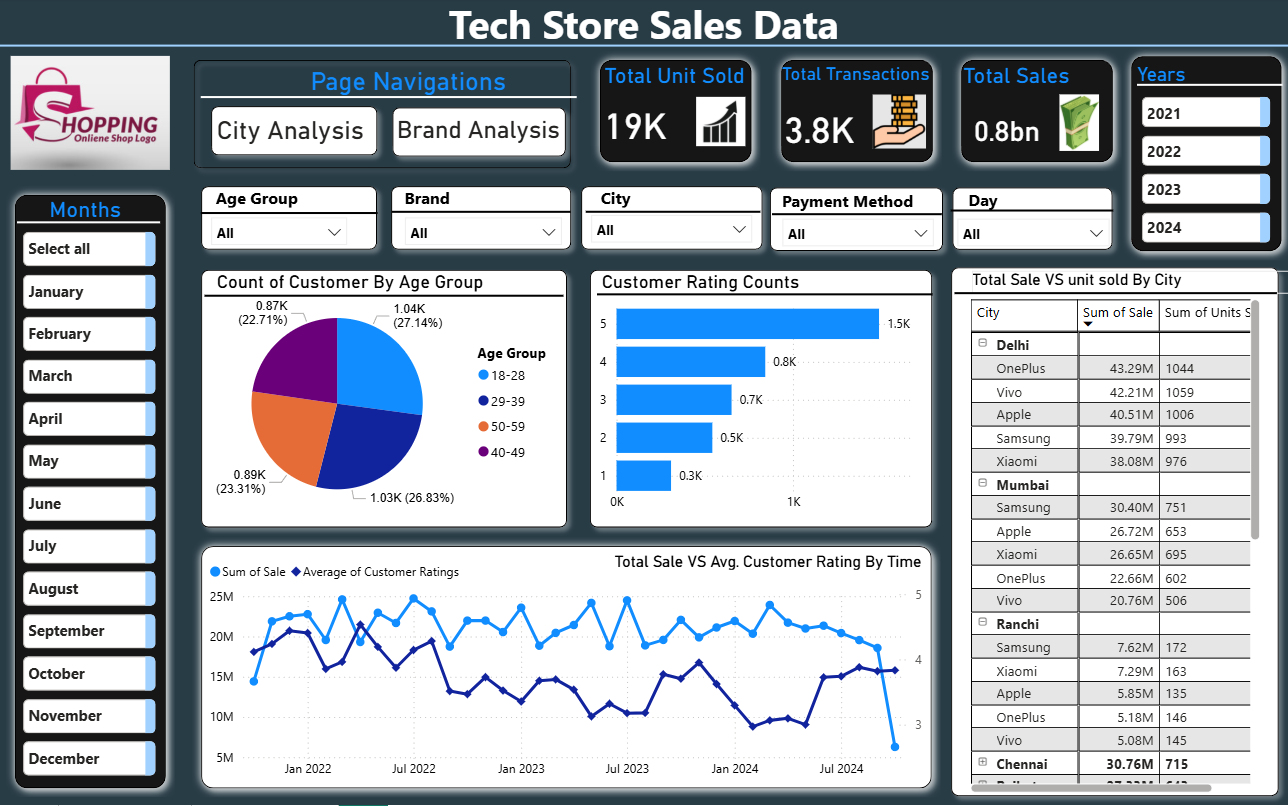

The page's visual inventory and layout, read from the dashboard file:
{"tool":"powerbi","page":{"name":"Homepage","canvas":[1280,800],"ordinal":0},"visuals":[{"type":"shape","title":"Tech Store Sales Data","box":[0,0,1280,53.7],"z":0},{"type":"shape","box":[0,27.4,1280,41.8],"z":1000},{"type":"image","box":[8.4,48.9,167,130],"z":2000},{"type":"shape","title":"Months","box":[8.2,186.6,167.4,605.1],"z":3000},{"type":"advancedSlicerVisual","fields":{"Values":["Mobile Sales Data.Date.Variation.Date Hierarchy.Month"]},"box":[20.6,227.8,141.3,551.6],"z":4000},{"type":"shape","title":"Months","box":[52.5,198,109.7,32.2],"z":5000},{"type":"shape","box":[20.3,214.7,142,15.5],"z":6000},{"type":"shape","box":[577.7,260.7,356.8,273.1],"z":7000},{"type":"shape","box":[186.1,53.7,391.3,125.3],"z":8000},{"type":"shape","box":[202.8,99,182.5,66.8],"z":9000},{"type":"shape","title":"City Analysis","box":[217.1,116.9,156.3,31],"z":10000},{"type":"actionButton","box":[215.9,108.6,156.3,40.6],"z":11000},{"type":"shape","box":[381.7,100.2,189.7,66.8],"z":12000},{"type":"shape","title":"Brand Analysis","box":[396,118.1,173,31],"z":13000},{"type":"actionButton","box":[396,112.1,156.3,40.6],"z":14000},{"type":"shape","title":"Page Navigations","box":[310.2,69.2,224.3,31],"z":15000},{"type":"shape","box":[201.6,84.7,372.2,29.8],"z":16000},{"type":"shape","box":[193.5,260.7,380.1,273.1],"z":17000},{"type":"shape","box":[193.5,178.4,192.1,81],"z":18000},{"type":"shape","title":"Months","box":[588.1,53.7,168.2,119.3],"z":19000},{"type":"shape","title":"Months","box":[1113,48.9,167,211.1],"z":20000},{"type":"card","fields":{"Values":["Sum(Mobile Sales Data.Units Sold)"]},"box":[591.7,91.9,81.1,65.6],"z":21000},{"type":"image","box":[676.4,94.2,79.9,58.5],"z":22000},{"type":"shape","title":"Total Unit Sold","box":[601.2,65.6,150.3,28.6],"z":23000},{"type":"shape","title":"Months","box":[767,53.7,168.2,119.3],"z":24000},{"type":"card","fields":{"Values":["Count(Mobile Sales Data.Transaction ID)"]},"box":[767,102.6,94.2,52.5],"z":25000},{"type":"image","box":[861.3,91.9,64.4,63.2],"z":26000},{"type":"shape","title":"Total Transactions","box":[776.6,65.6,150.3,21.5],"z":27000},{"type":"shape","title":"Months","box":[944.8,53.7,168.2,119.3],"z":28000},{"type":"card","fields":{"Values":["Sum(Mobile Sales Data.Sale)"]},"box":[951.9,105,94.2,52.5],"z":29000},{"type":"shape","title":"Total Sales","box":[955.5,65.6,150.3,21.5],"z":30000},{"type":"image","box":[1034.8,91.3,70.9,65.4],"z":31000},{"type":"slicer","fields":{"Values":["Mobile Sales Data.Age Group"]},"box":[201.6,207.6,155.1,44.1],"z":32000},{"type":"shape","title":"Months","box":[193.5,533.8,741,258],"z":33000},{"type":"shape","title":"Age Group","box":[215.9,187.3,150.3,23.9],"z":34000},{"type":"shape","box":[201.6,207.6,175,11.9],"z":35000},{"type":"shape","box":[381.5,178.4,196.2,81],"z":36000},{"type":"shape","title":"Brand","box":[403.2,187.3,150.3,23.9],"z":37000},{"type":"shape","box":[391.3,207.6,177,9.5],"z":38000},{"type":"slicer","fields":{"Values":["Mobile Sales Data.Brand"]},"box":[393.8,207.2,175.6,43.9],"z":39000},{"type":"shape","box":[569.5,178.4,197.6,81],"z":40000},{"type":"shape","title":"City","box":[597.7,187.3,150.3,23.9],"z":41000},{"type":"shape","box":[582.1,206.4,173,11.9],"z":42000},{"type":"slicer","fields":{"Values":["Mobile Sales Data.City"]},"box":[577.7,205.8,179.8,42.5],"z":43000},{"type":"shape","box":[756.1,179.8,189.4,81],"z":44000},{"type":"shape","title":"Payment Method","box":[776.6,190.9,150.3,23.9],"z":45000},{"type":"shape","box":[767,206.4,168,16.7],"z":46000},{"type":"slicer","fields":{"Values":["Mobile Sales Data.Payment Method"]},"box":[767.1,208.6,170.2,43.9],"z":47000},{"type":"shape","box":[936.4,178.9,176.6,79.9],"z":48000},{"type":"shape","title":"Day","box":[961.5,189.7,84.7,25.1],"z":49000},{"type":"shape","box":[943.6,205.2,161,11.9],"z":50000},{"type":"slicer","fields":{"Values":["Mobile Sales Data.Day_Name_Cleaned"]},"box":[940,208.8,170.6,44.1],"z":51000},{"type":"advancedSlicerVisual","fields":{"Values":["Mobile Sales Data.Year"]},"box":[1128.5,94.2,137.2,156.3],"z":52000},{"type":"shape","title":"Years","box":[1128.5,65.6,75.2,21.5],"z":53000},{"type":"shape","box":[1128.5,78.7,144.3,15.5],"z":54000},{"type":"pieChart","fields":{"Category":["Mobile Sales Data.Age Group"],"Y":["CountNonNull(Mobile Sales Data.Transaction ID)"]},"box":[193.5,270.3,374.6,263.5],"z":55000},{"type":"shape","title":"Count of Customer By Age Group","box":[218.2,270.3,329.3,22],"z":56000},{"type":"shape","box":[205.8,282.7,355.4,24.7],"z":57000},{"type":"shape","box":[935.2,259,342.2,541.2],"z":58000},{"type":"pivotTable","fields":{"Values":["Sum(Mobile Sales Data.Sale)","Sum(Mobile Sales Data.Units Sold)"],"Rows":["Mobile Sales Data.City","Mobile Sales Data.Brand"]},"box":[958.4,294.5,295.8,497.6],"z":59000},{"type":"shape","title":"Total Sale VS unit sold By City","box":[965.2,271.3,314.9,23.2],"z":60000},{"type":"shape","box":[947.5,280.8,319,24.5],"z":61000},{"type":"shape","title":"Total Sale VS Avg. Customer Rating By Time","box":[610.6,548.9,323.8,34.3],"z":62000},{"type":"lineChart","fields":{"Y":["Sum(Mobile Sales Data.Sale)"],"Category":["Mobile Sales Data.Date.Variation.Date Hierarchy.Year","Mobile Sales Data.Date.Variation.Date Hierarchy.Quarter","Mobile Sales Data.Date.Variation.Date Hierarchy.Month"],"Y2":["Avg(Mobile Sales Data.Customer Ratings)"]},"box":[205.8,548.9,720.4,233.3],"z":63000},{"type":"clusteredBarChart","fields":{"Category":["Mobile Sales Data.Customer Ratings"],"Y":["CountNonNull(Mobile Sales Data.Customer Ratings)"]},"box":[591.4,295,334.8,222.3],"z":64000},{"type":"shape","title":"Customer Rating Counts","box":[598.3,270.3,288.2,22],"z":65000},{"type":"shape","box":[594.2,282.7,332.1,22],"z":66000}]}

Visuals, with their boxes in screenshot pixels (x1, y1, x2, y2), scaled from the page's 1280x800 canvas onto the 1288x806 screenshot:
"Tech Store Sales Data" shape: 0/0/1287/54
shape: 0/28/1287/70
image: 8/49/176/180
"Months" shape: 8/188/177/798
advancedSlicerVisual - Mobile Sales Data.Date.Variation.Date Hierarchy.Month: 21/230/163/785
"Months" shape: 53/199/163/232
shape: 20/216/163/232
shape: 581/263/940/538
shape: 187/54/581/180
shape: 204/100/388/167
"City Analysis" shape: 218/118/376/149
actionButton: 217/109/375/150
shape: 384/101/575/168
"Brand Analysis" shape: 398/119/573/150
actionButton: 398/113/556/154
"Page Navigations" shape: 312/70/538/101
shape: 203/85/577/115
shape: 195/263/577/538
shape: 195/180/388/261
"Months" shape: 592/54/761/174
"Months" shape: 1120/49/1287/262
card - Sum(Mobile Sales Data.Units Sold): 595/93/677/159
image: 681/95/761/154
"Total Unit Sold" shape: 605/66/756/95
"Months" shape: 772/54/941/174
card - Count(Mobile Sales Data.Transaction ID): 772/103/867/156
image: 867/93/931/156
"Total Transactions" shape: 781/66/933/88
"Months" shape: 951/54/1120/174
card - Sum(Mobile Sales Data.Sale): 958/106/1053/159
"Total Sales" shape: 961/66/1113/88
image: 1041/92/1113/158
slicer - Mobile Sales Data.Age Group: 203/209/359/254
"Months" shape: 195/538/940/798
"Age Group" shape: 217/189/368/213
shape: 203/209/379/221
shape: 384/180/581/261
"Brand" shape: 406/189/557/213
shape: 394/209/572/219
slicer - Mobile Sales Data.Brand: 396/209/573/253
shape: 573/180/772/261
"City" shape: 601/189/753/213
shape: 586/208/760/220
slicer - Mobile Sales Data.City: 581/207/762/250
shape: 761/181/951/263
"Payment Method" shape: 781/192/933/216
shape: 772/208/941/225
slicer - Mobile Sales Data.Payment Method: 772/210/943/254
shape: 942/180/1120/261
"Day" shape: 968/191/1053/216
shape: 949/207/1112/219
slicer - Mobile Sales Data.Day_Name_Cleaned: 946/210/1118/255
advancedSlicerVisual - Mobile Sales Data.Year: 1136/95/1274/252
"Years" shape: 1136/66/1211/88
shape: 1136/79/1281/95
pieChart - Mobile Sales Data.Age Group x CountNonNull(Mobile Sales Data.Transaction ID): 195/272/572/538
"Count of Customer By Age Group" shape: 220/272/551/294
shape: 207/285/565/310
shape: 941/261/1285/805
pivotTable - Sum(Mobile Sales Data.Sale) x Sum(Mobile Sales Data.Units Sold): 964/297/1262/798
"Total Sale VS unit sold By City" shape: 971/273/1287/297
shape: 953/283/1274/308
"Total Sale VS Avg. Customer Rating By Time" shape: 614/553/940/588
lineChart - Sum(Mobile Sales Data.Sale) x Mobile Sales Data.Date.Variation.Date Hierarchy.Year: 207/553/932/788
clusteredBarChart - Mobile Sales Data.Customer Ratings x CountNonNull(Mobile Sales Data.Customer Ratings): 595/297/932/521
"Customer Rating Counts" shape: 602/272/892/294
shape: 598/285/932/307
